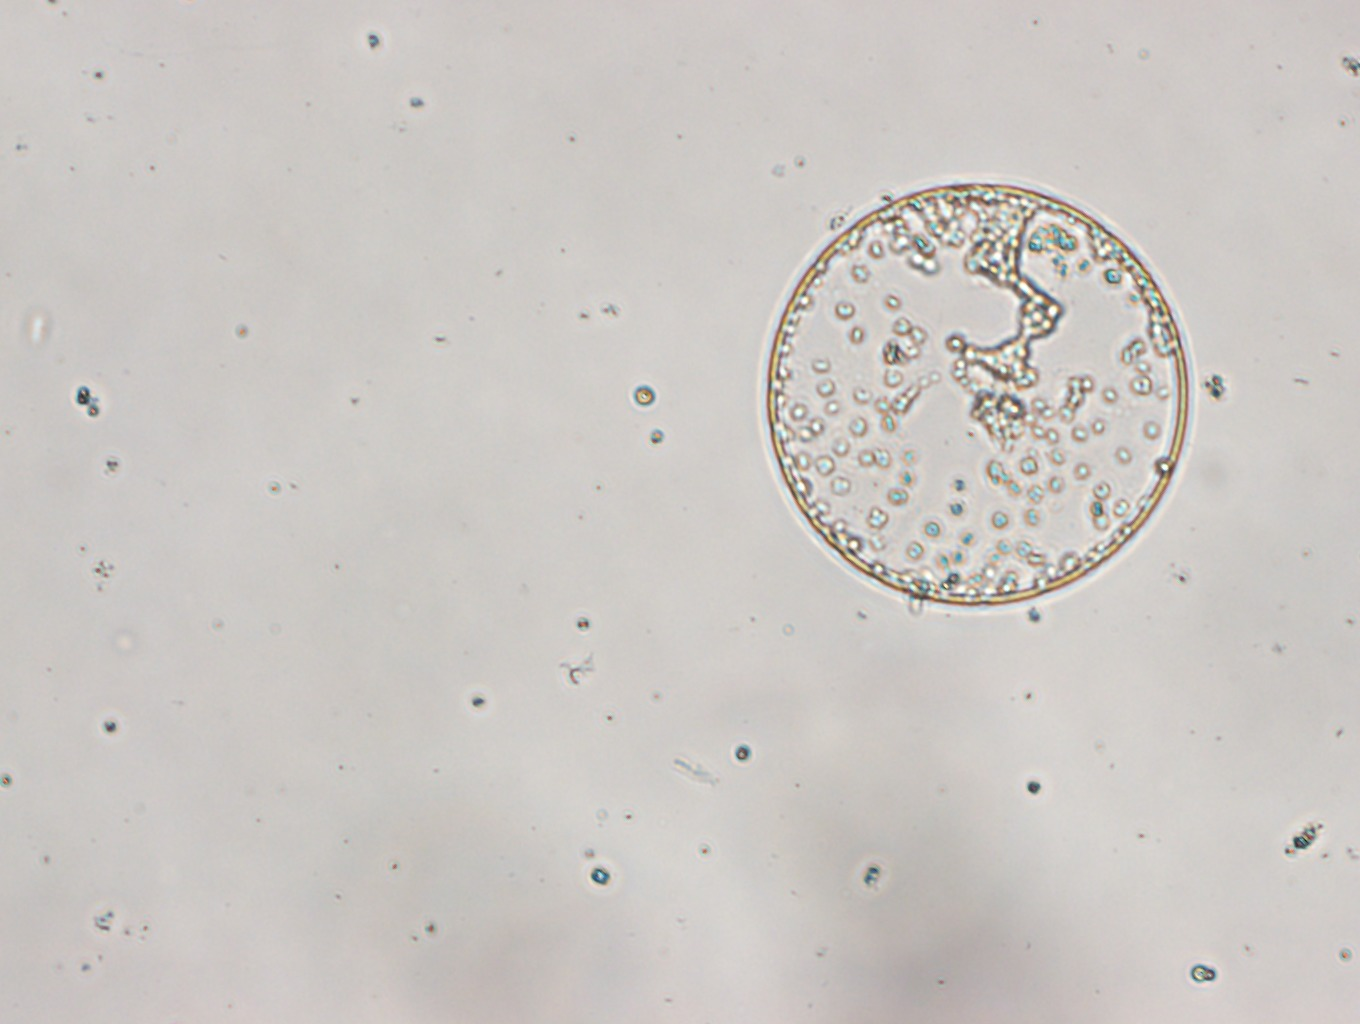coscinodiscus: (765, 180, 1190, 608)
